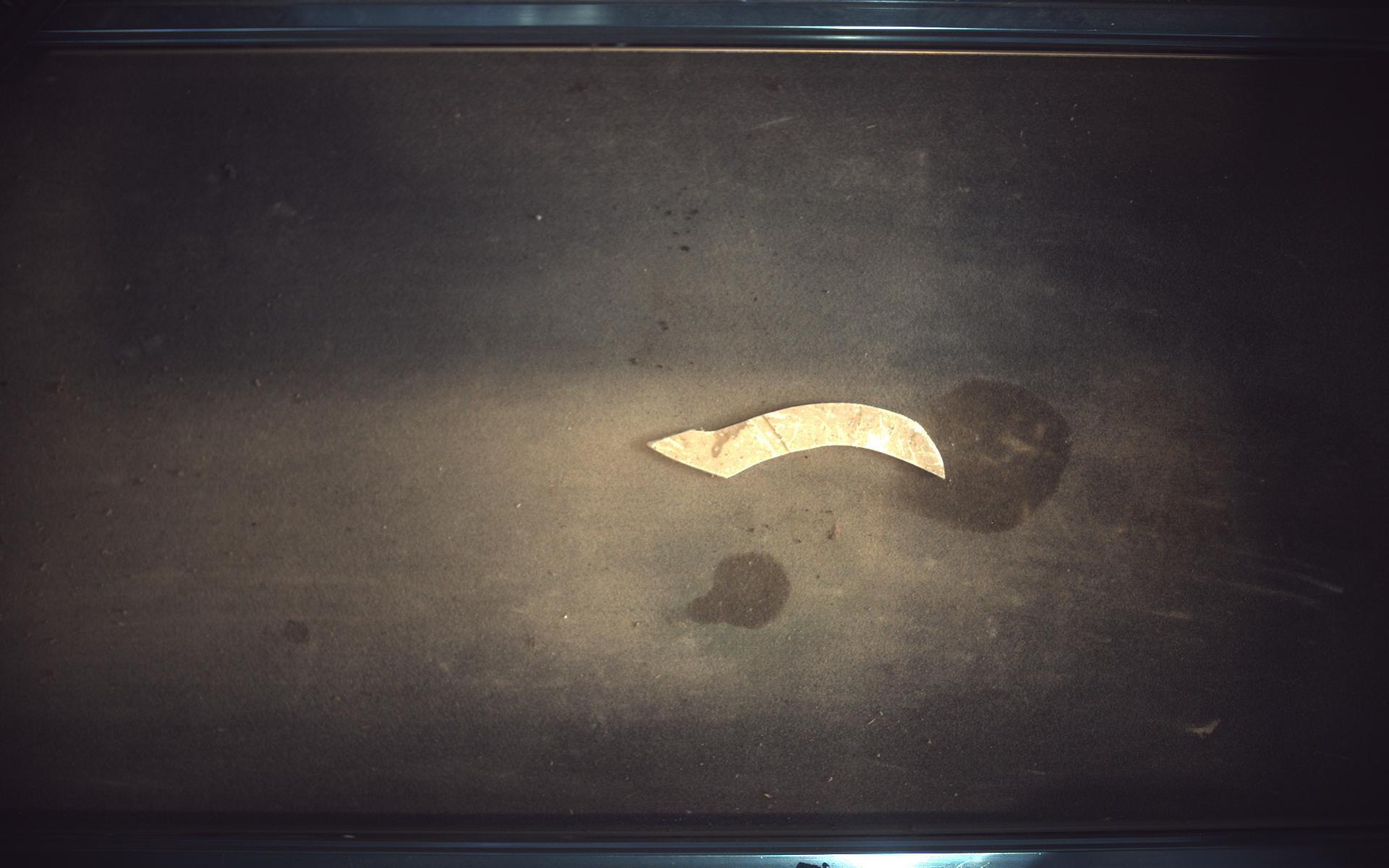plastic: (650, 403, 947, 479)
